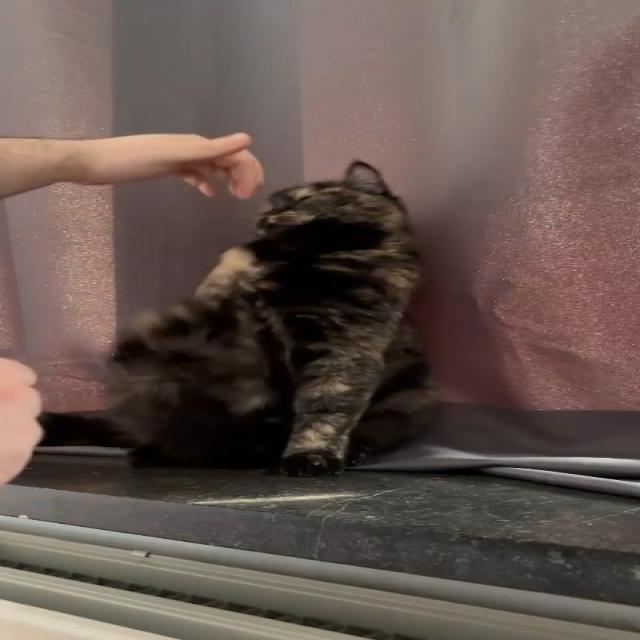authorized: (37, 158, 440, 478)
